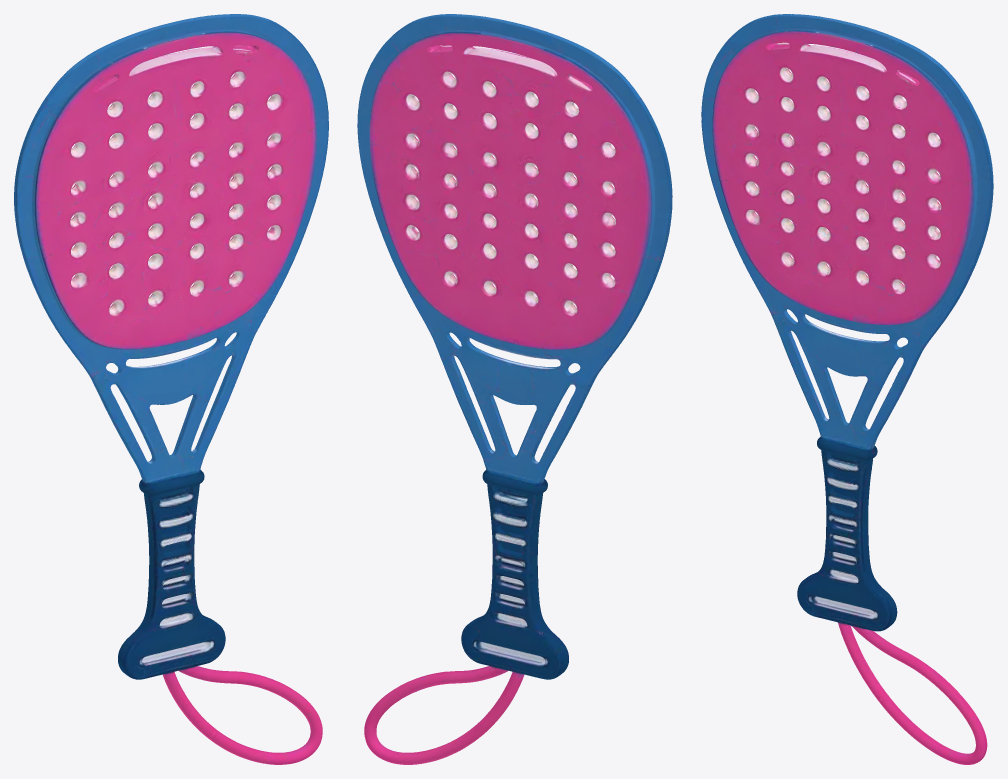
Rendered from Racchetta da padel.glb.
3 views of the same model, side by side, from view 1: azimuth 30°, elevation 25°; view 2: azimuth 150°, elevation 25°; view 3: azimuth 330°, elevation 25° (orthographic). The views are drawn at different scales.
Bounding box in the file's own units: 0.8079 × 1.9 × 0.0647.
1 material, 1 textured.
